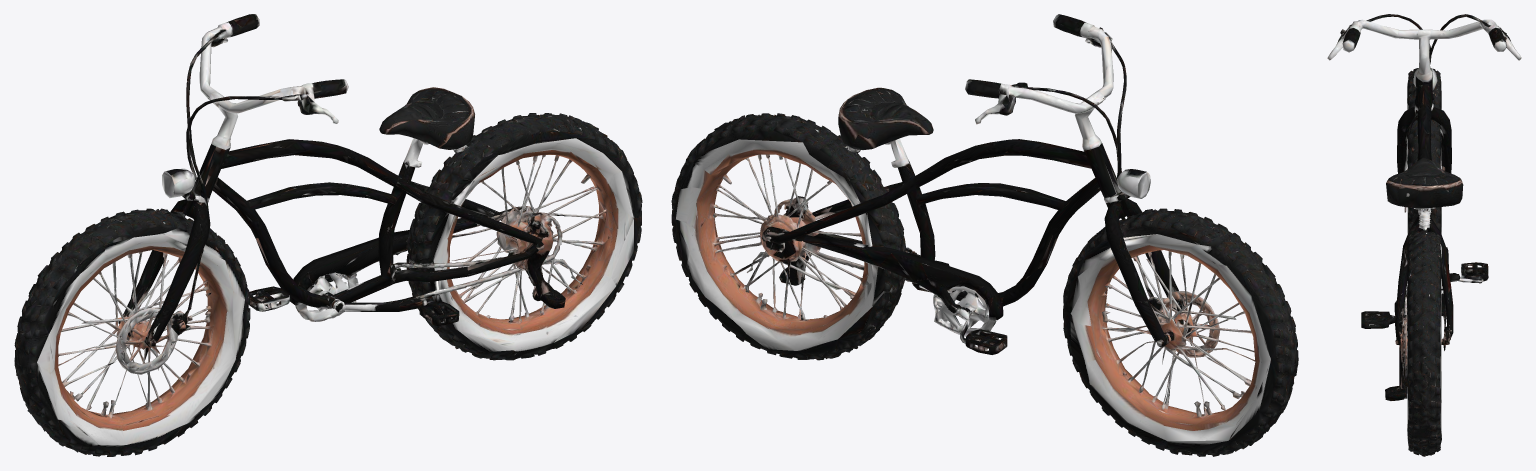
The model's file is bike1.glb.
3 views of the same model, side by side, from view 1: azimuth 30°, elevation 25°; view 2: azimuth 150°, elevation 25°; view 3: azimuth 270°, elevation 25° (orthographic). The views are drawn at different scales.
Visible parts, largest first — view 1: LO; view 2: LO; view 3: LO.
Part boxes in pixels (x1,y1,x2,y2): LO: (14, 14, 642, 456); LO: (671, 14, 1298, 456); LO: (1327, 14, 1521, 456).
Bounding box in the file's own units: 1.9 × 1.07 × 0.6056.
1 material, 1 textured.
